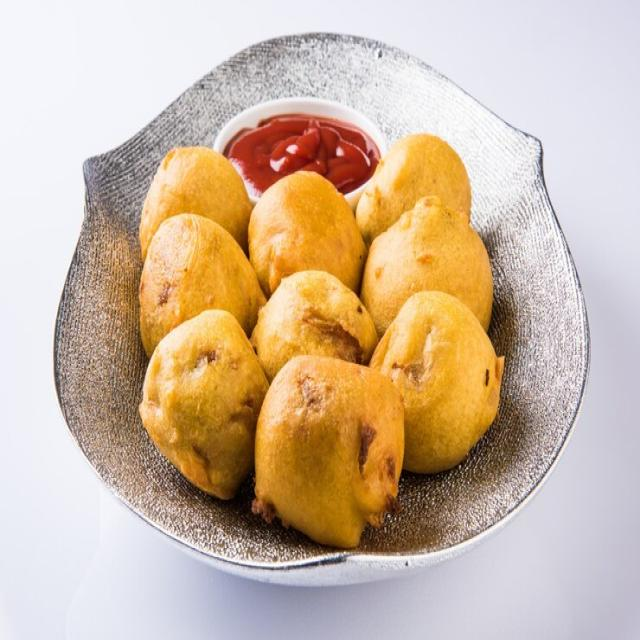BONDA: (146, 175, 534, 543)
RED CHUTNEY: (225, 95, 395, 205)
